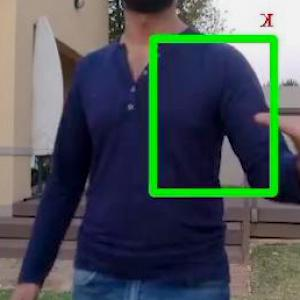land_hand: (250, 36, 299, 174)
